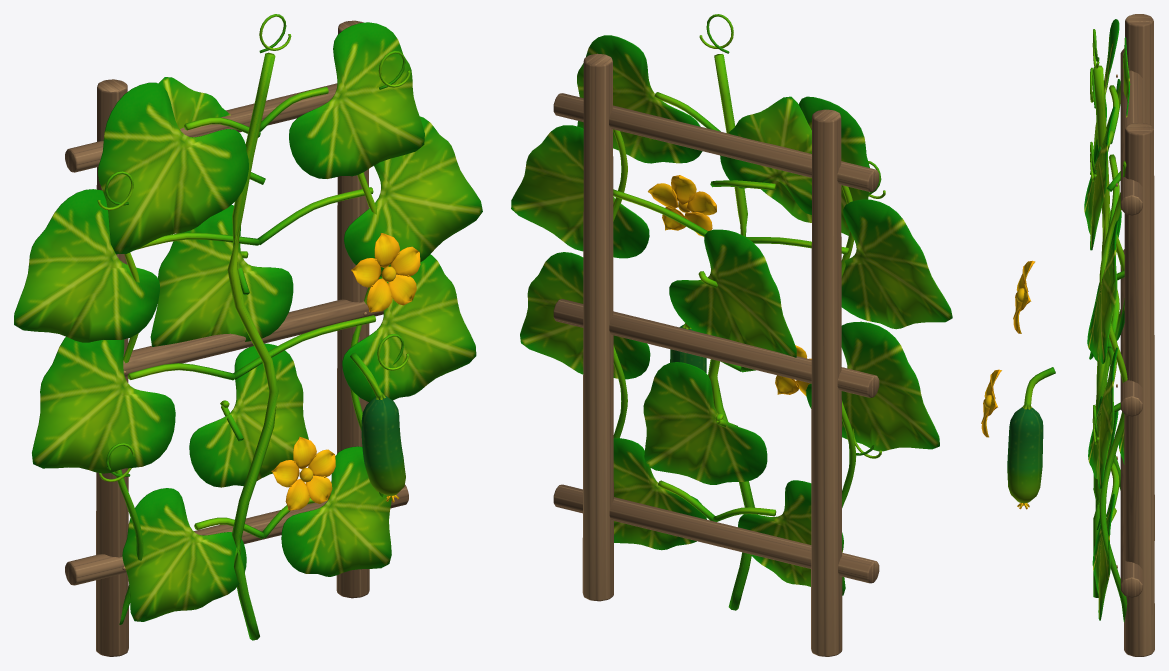
The model's file is NP_Cucumber_Flowering.fbx.
3 views of the same model, side by side, from view 1: azimuth 30°, elevation 25°; view 2: azimuth 150°, elevation 25°; view 3: azimuth 270°, elevation 25° (orthographic). The views are drawn at different scales.
Visible parts, largest first — view 1: NP_Cucumber_Flowering; view 2: NP_Cucumber_Flowering; view 3: NP_Cucumber_Flowering.
Part boxes in pixels (left/top/right/bottom): NP_Cucumber_Flowering: left=14, top=14, right=482, bottom=656; NP_Cucumber_Flowering: left=511, top=14, right=952, bottom=656; NP_Cucumber_Flowering: left=981, top=14, right=1154, bottom=656.
Size of the model in its own units: 91.14 by 116 by 31.75.
